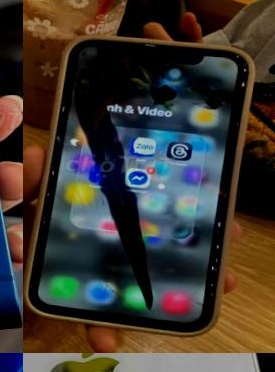physical_damage: (23, 38, 221, 322)
screen_defect: (37, 42, 232, 326)
